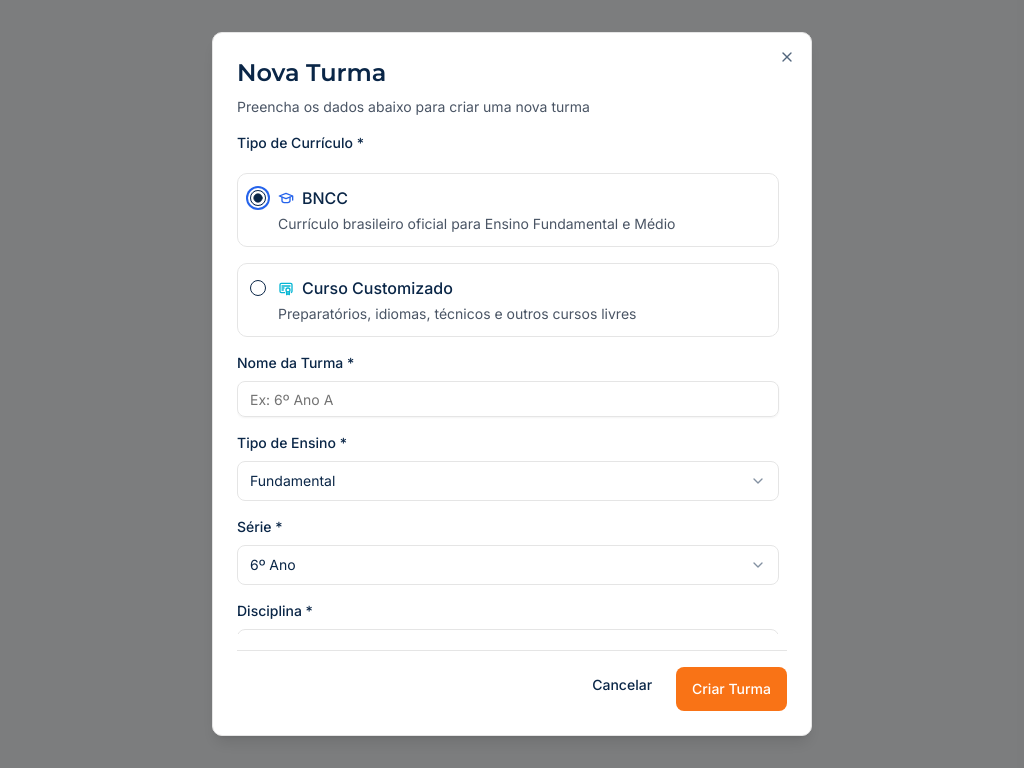
Test case: TurmaFormDialog › Contexto Pedagógico - Story 11.5 › should show character counter for objetivo_geral
Click the radio button named "Curso Customizado" next to "Curso Customizado".
click(258, 288)  # box [250,280,266,296]
(page scrolled)
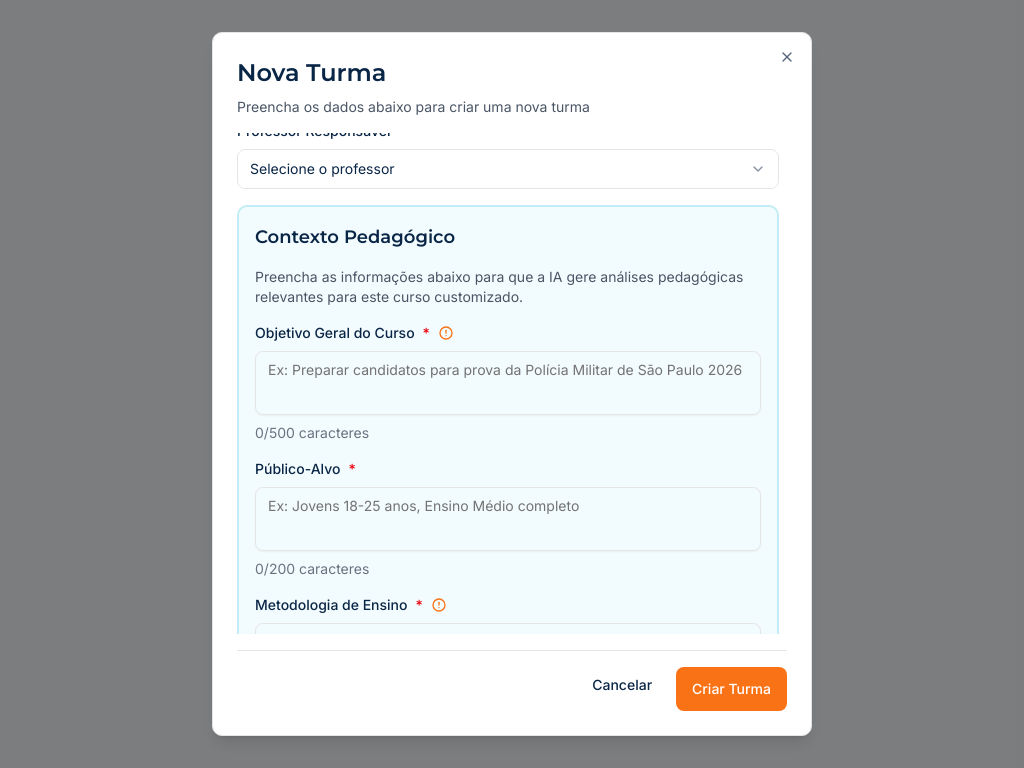
Expected: the text "0/500 caracteres" is shown, [255,423,369,443]
// Use getByRole to target the textarea specifically (not the tooltip icon)
Type "Teste" into the text box labelled "Objetivo Geral do Curso *".
click(508, 383); type("Teste")  # box [255,351,761,415]
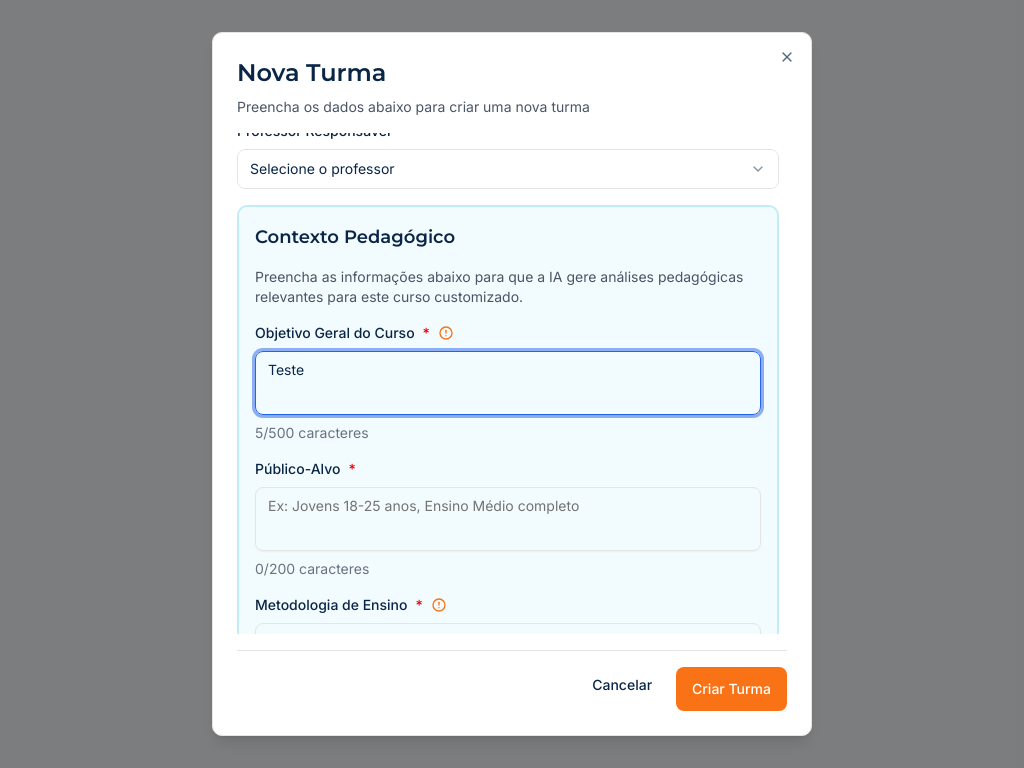
Expected: the text "5/500 caracteres" is shown, [255,423,369,443]
